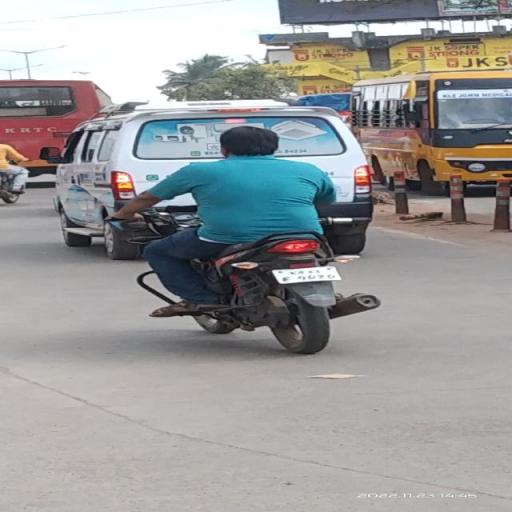bike: (106, 124, 385, 356)
withouthelmet: (221, 127, 276, 157)
